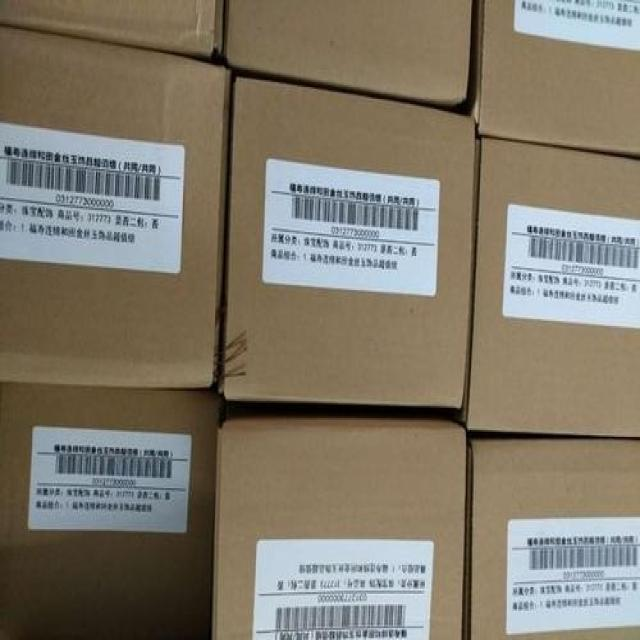box: (215, 76, 472, 416), (0, 17, 232, 390), (211, 423, 471, 638), (1, 383, 219, 638), (460, 137, 639, 439), (462, 440, 639, 637), (223, 1, 478, 106), (470, 2, 639, 154), (1, 2, 224, 65)
